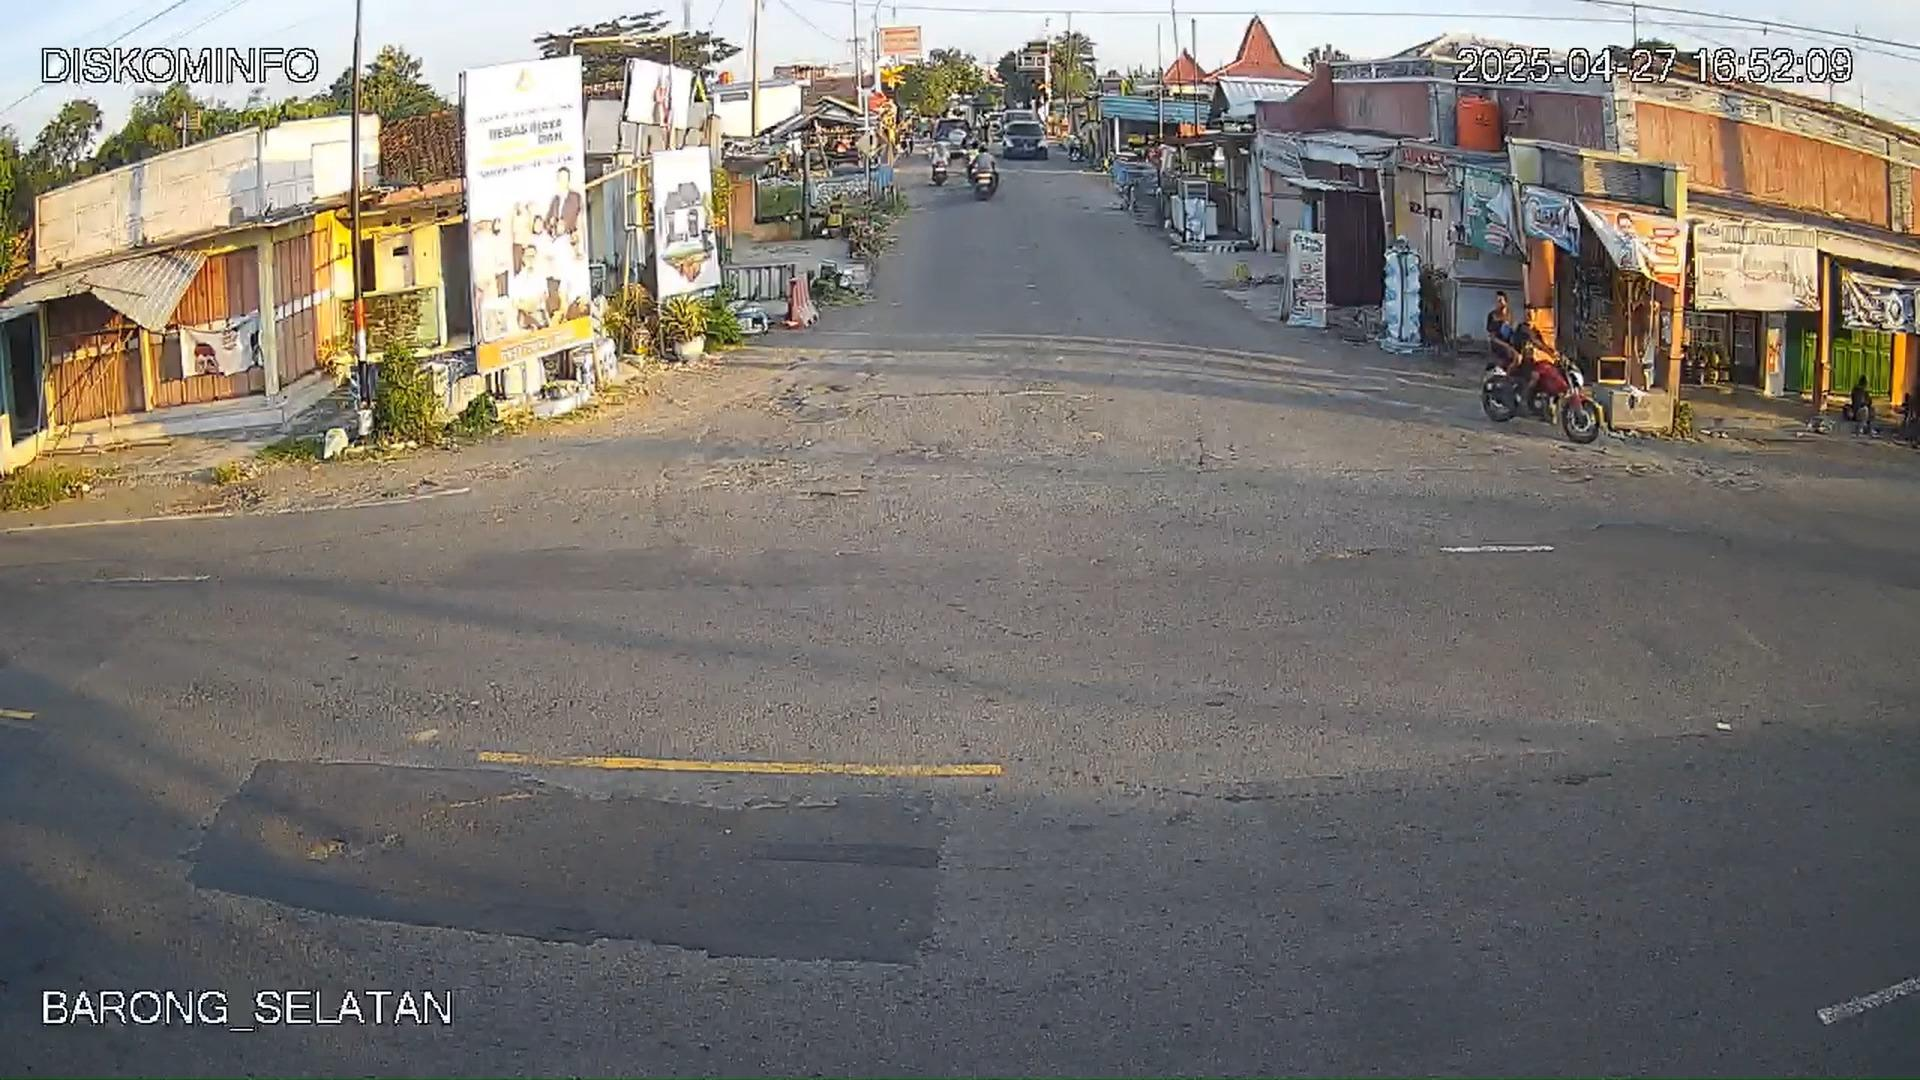Motor: (1476, 342, 1597, 444)
